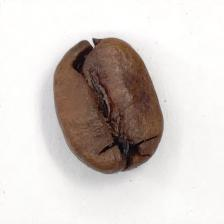NG: (69, 50, 144, 153)
